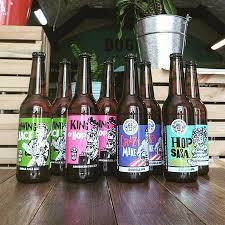beer: (18, 52, 209, 183)
